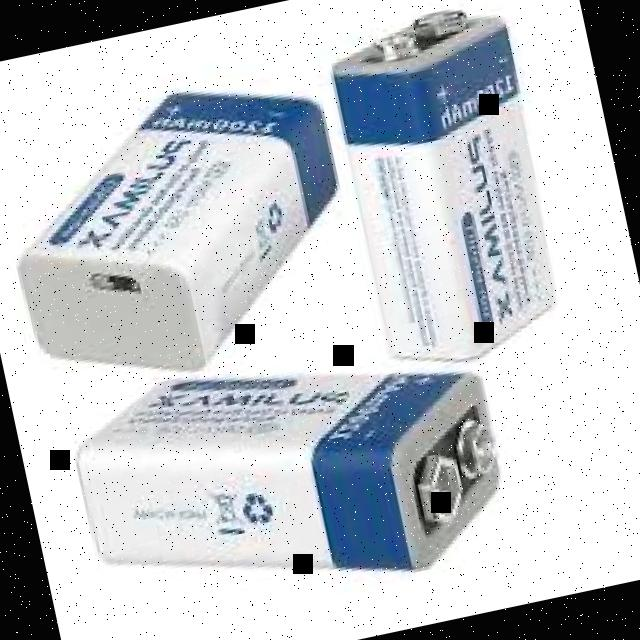battery: (75, 372, 501, 570), (331, 8, 554, 360)
